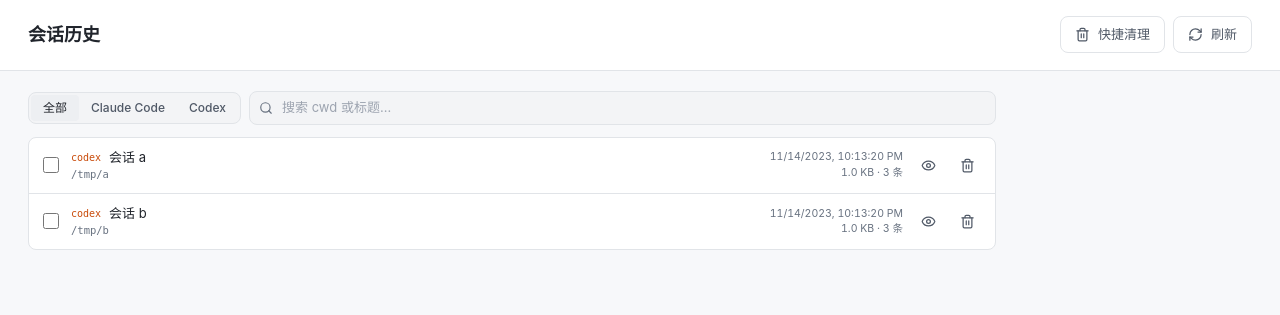
Test case: HistoryPage — 预览 › 预览加载失败时显示错误条
Expected: the text "会话 a" is shown, [109, 148, 146, 167]
Click the button titled "预览" in the row of "会话 a" at (928, 165), box [915, 152, 942, 179]
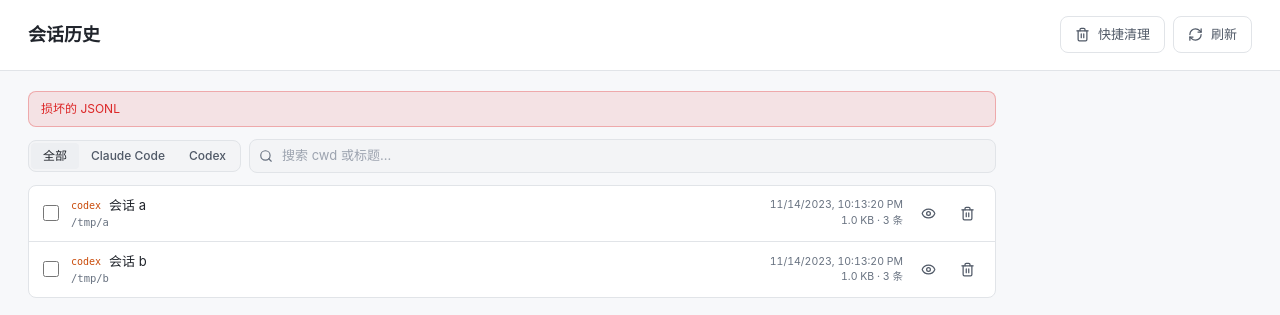
Now the message reads "损坏的 JSONL", box [41, 101, 120, 116]
